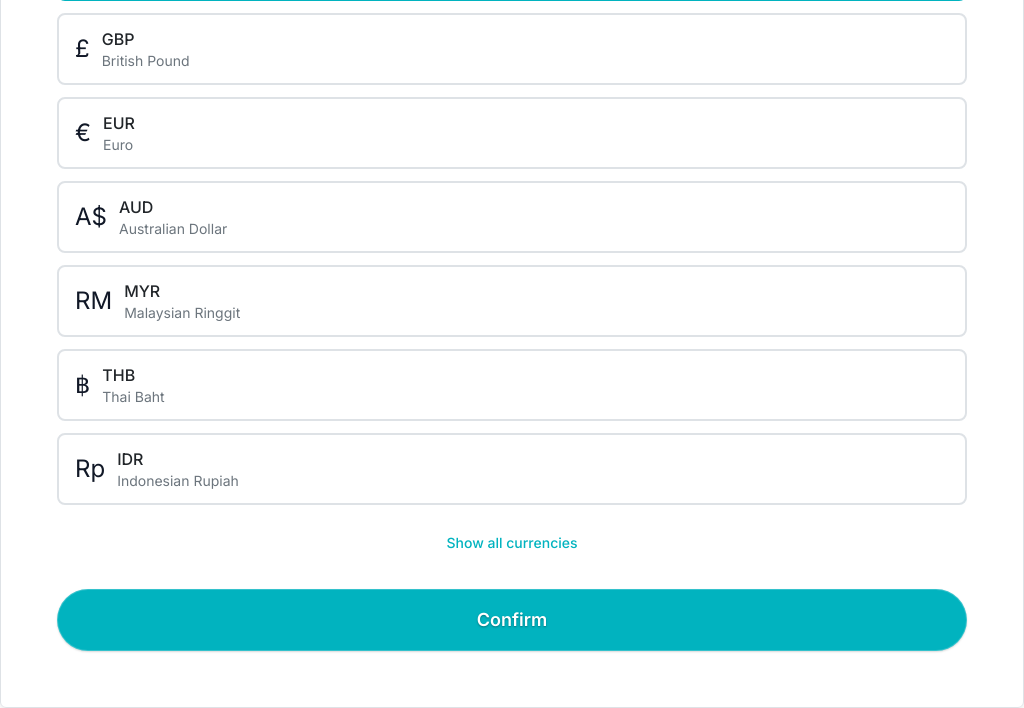
it: MenuCurrencyOnboarding › Show All Currencies › shows searchable currency list when "Show all currencies" is clicked
(page scrolled)
// Click "Show all currencies"
Click the button "Show all currencies" at x=512, y=543, box [57,521,967,565]
(page scrolled)
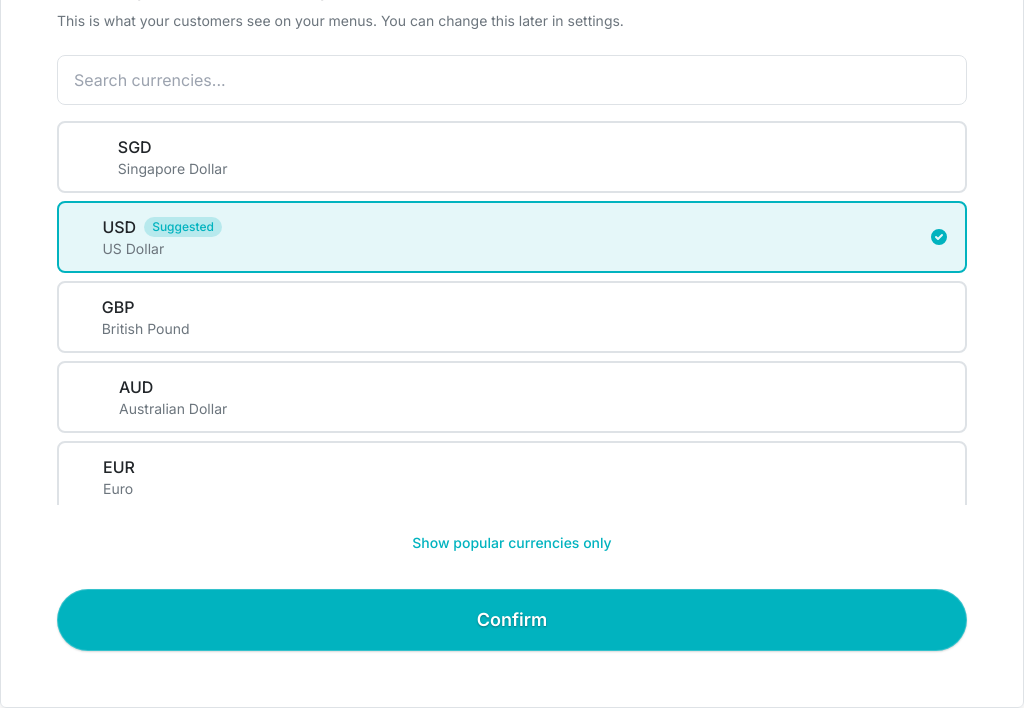
Result: the field with placeholder "Search currencies..." is shown at [57,55,967,105]
Result: the button "Show popular currencies only" is shown at [57,521,967,565]
